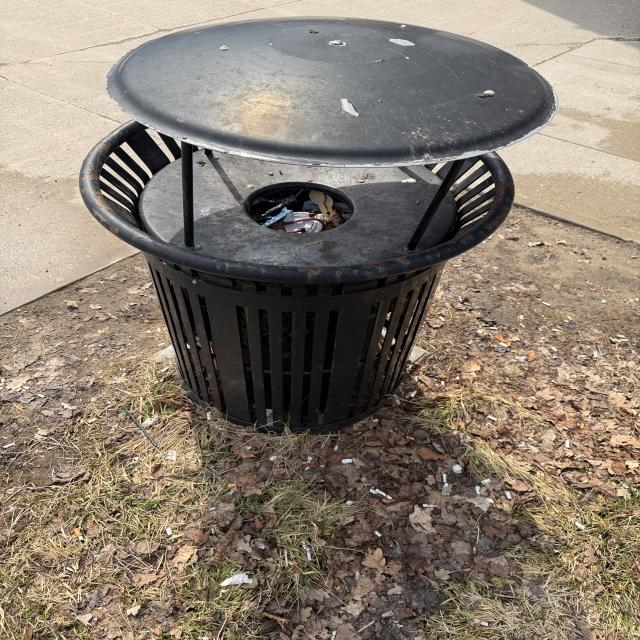Dustbin: (77, 15, 559, 434)
